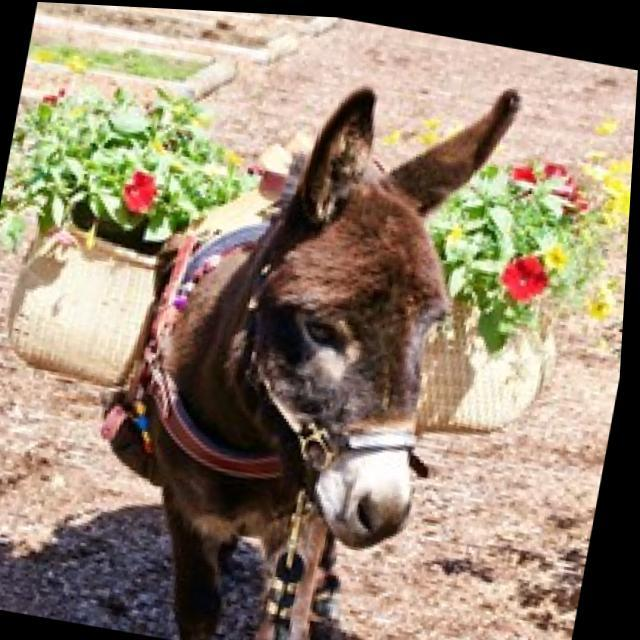Donkey: (70, 18, 530, 640)
